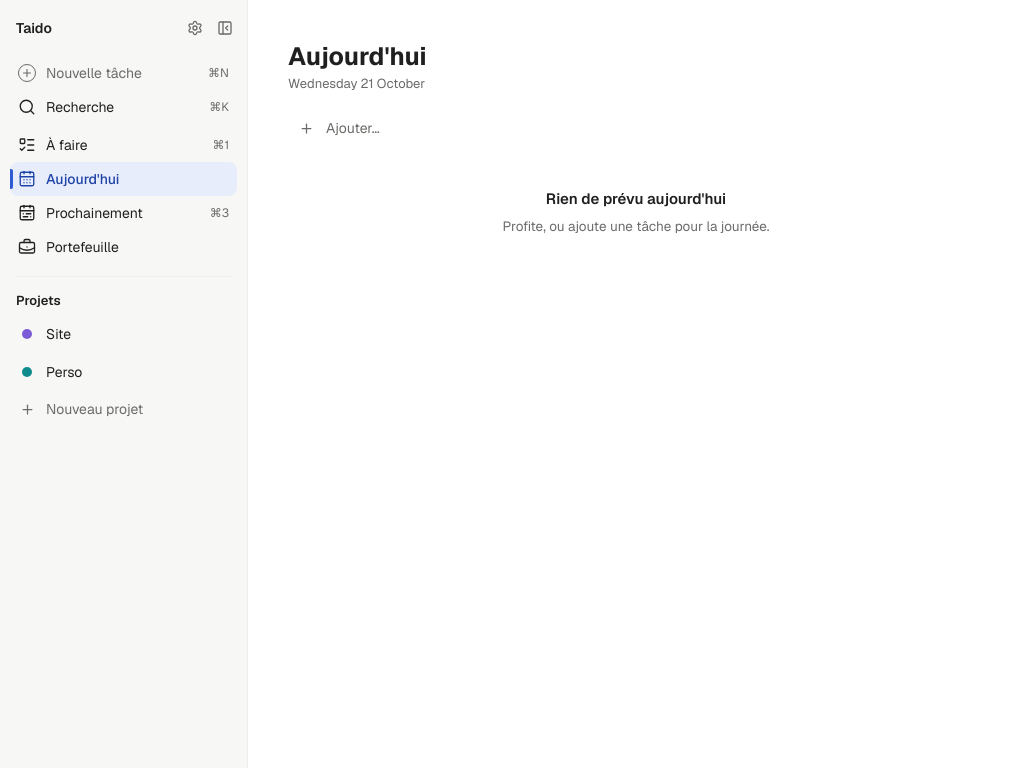
Scenario: quick add dialog › completes # with the keyboard (listbox, arrows, Enter, Escape)
Check: the navigation bar named "Navigation" is shown, box [10,128,237,425]
Type keys "{Meta>}n{/Meta}"
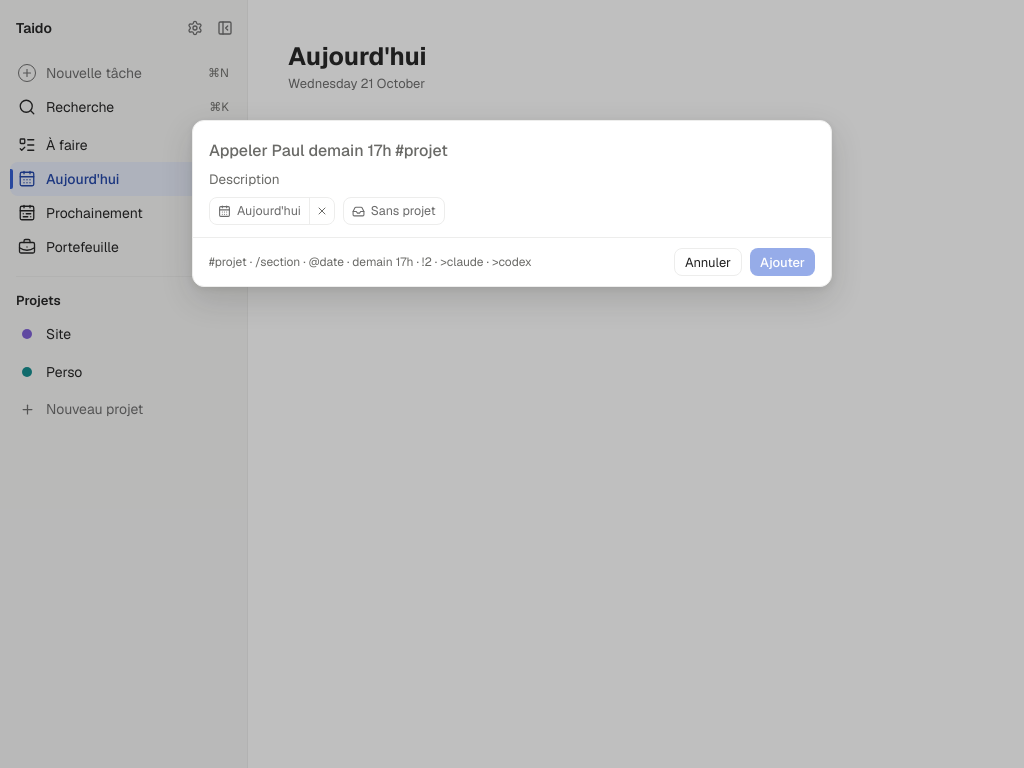
In the dropdown named "Nom de la tâche": (512, 151) [193,133,831,169], type "Faire #"
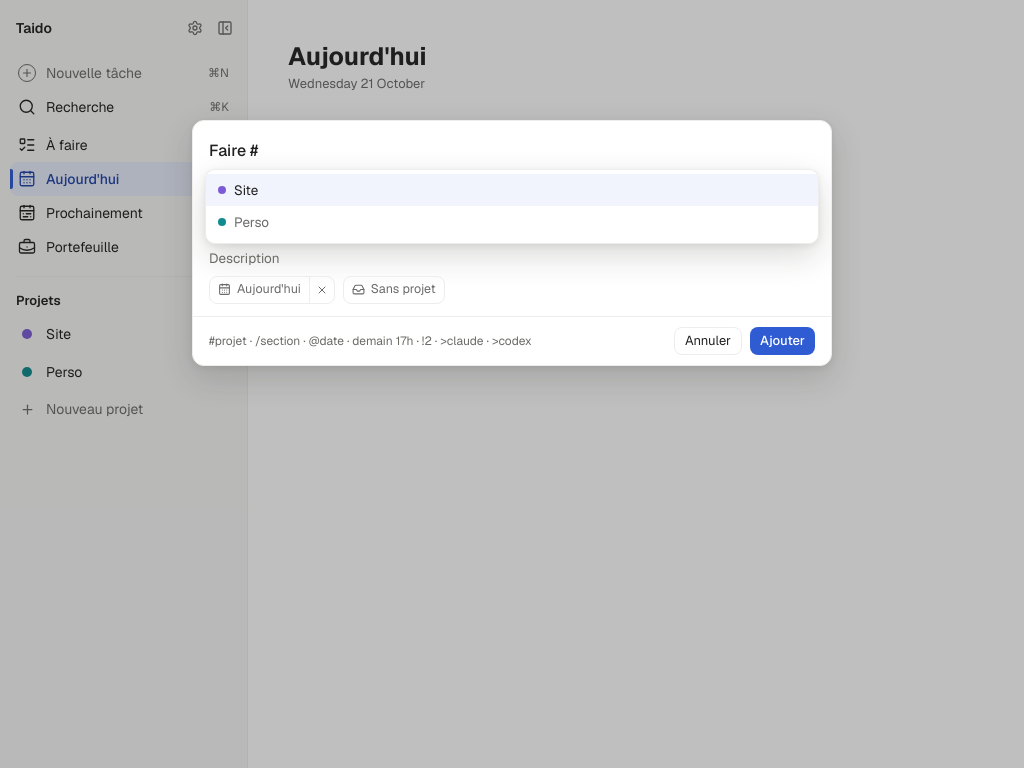
Check: the options read "Site", "Perso", in this order, box [206,174,818,206]; [218,213,269,231]
Check: the dropdown named "Nom de la tâche" is expanded, box [193,133,831,169]
Press Arrowdown
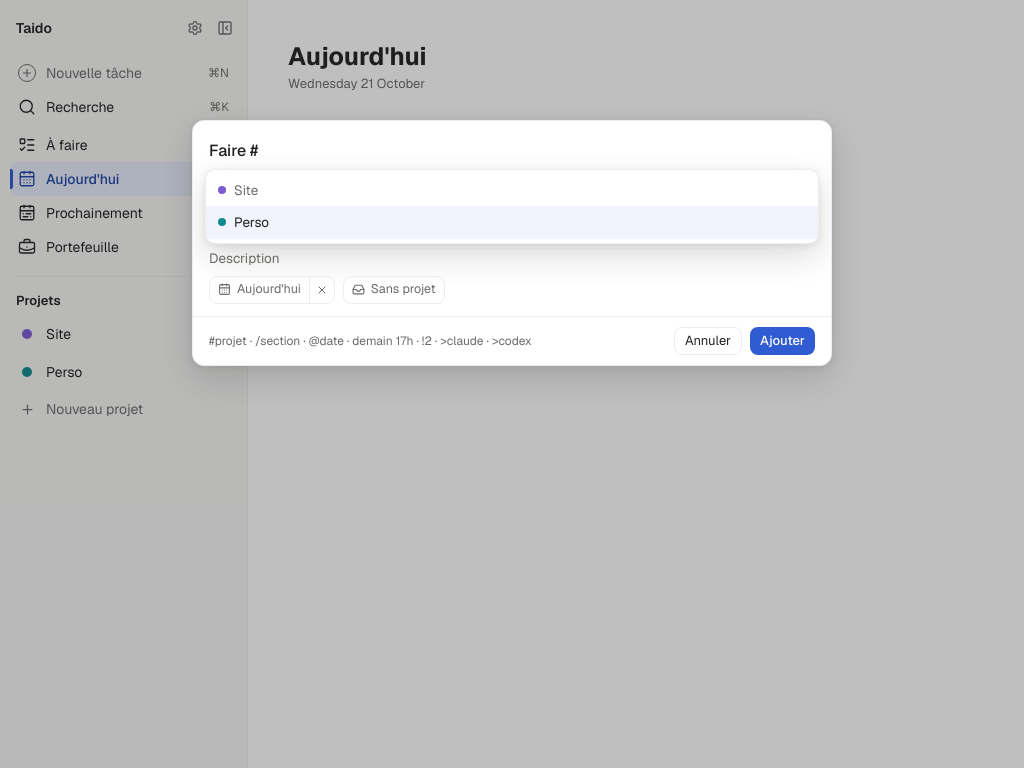
Press Enter
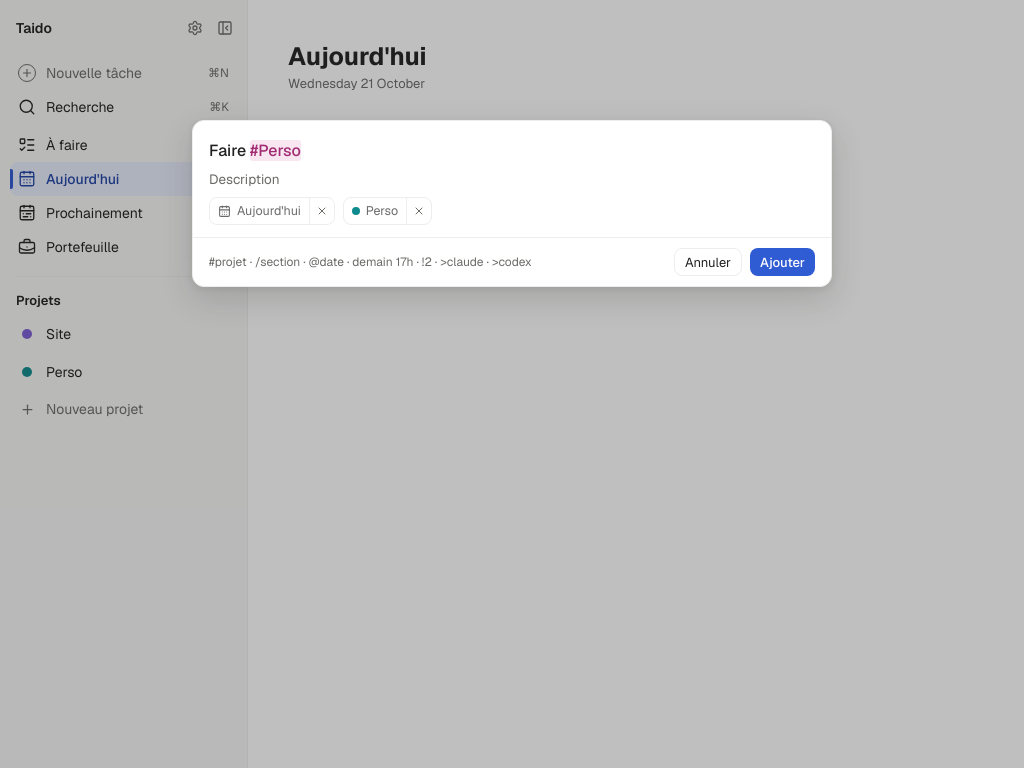
Check: the dropdown named "Nom de la tâche" holds "Faire #Perso "
Check: the list is gone
In the dropdown named "Nom de la tâche": (512, 151) [193,133,831,169], type "#site/"
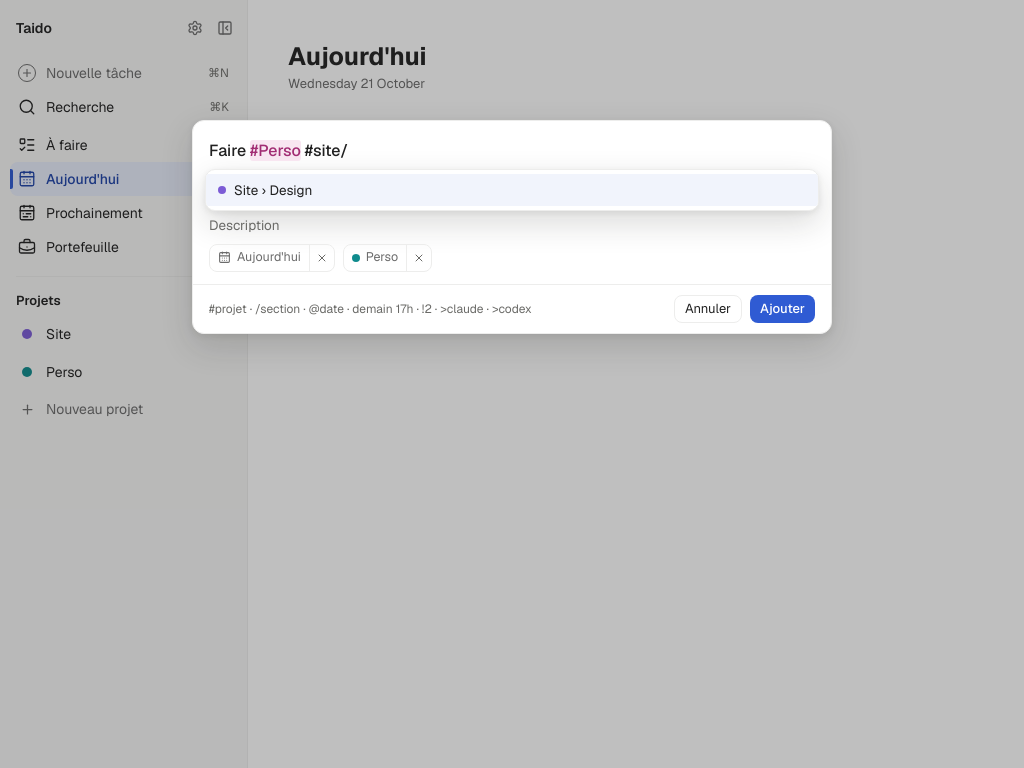
Check: the options read "Site › Design", in this order, box [206,174,818,206]
Press Escape
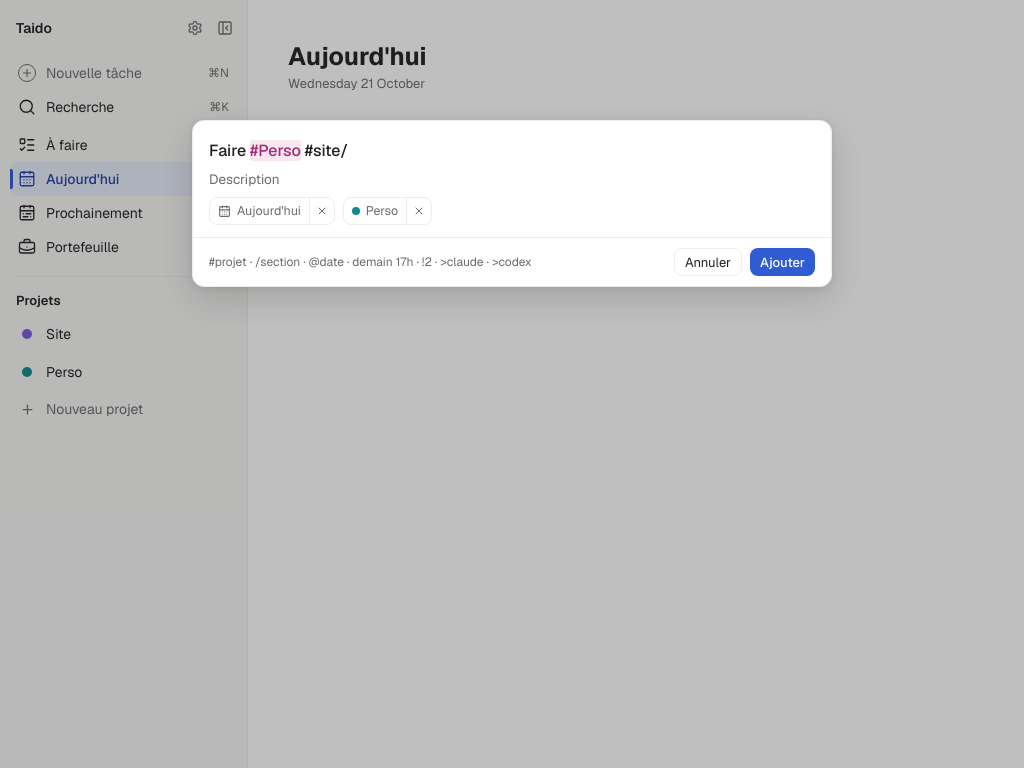
Check: the list is gone
